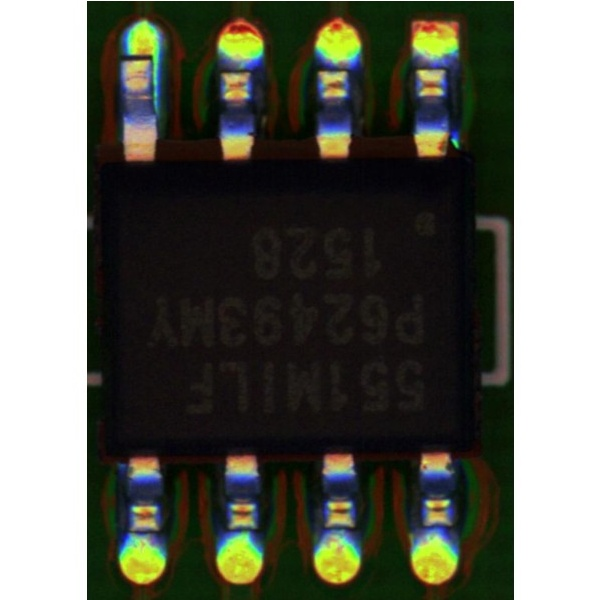Bad_podu: (125, 45, 152, 67)
Bad_qiaojiao: (151, 60, 158, 117)
